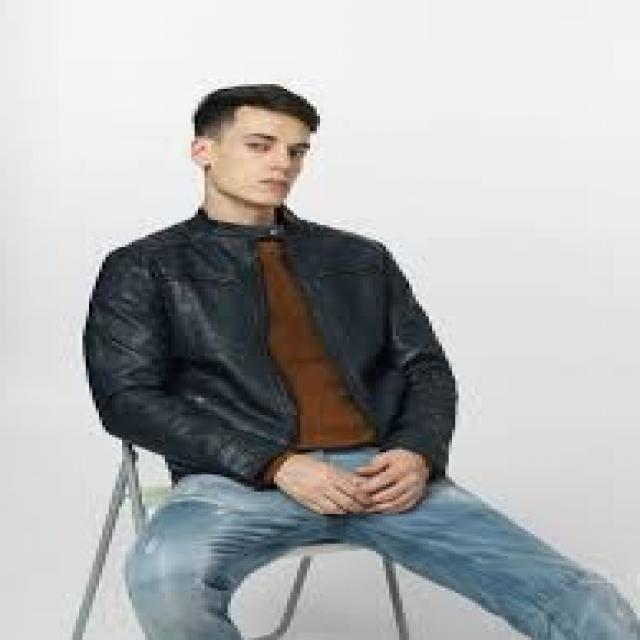Jacket: (70, 207, 462, 520)
